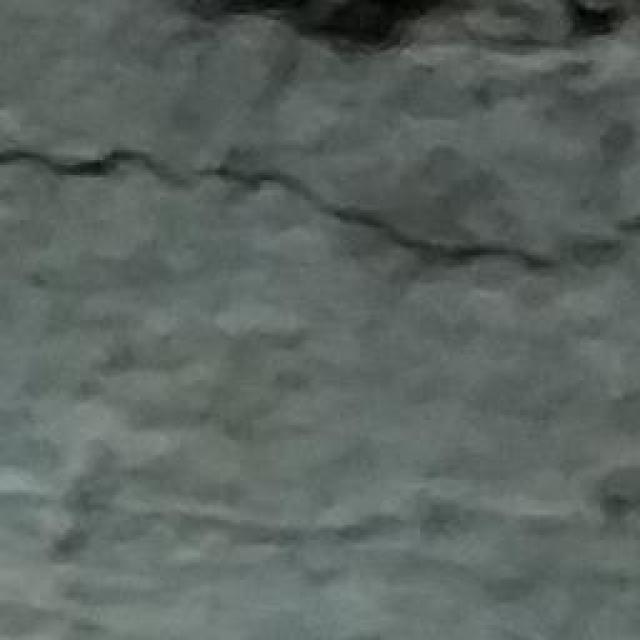Rippled: (0, 294, 640, 634)
Transverse: (0, 136, 640, 285)
